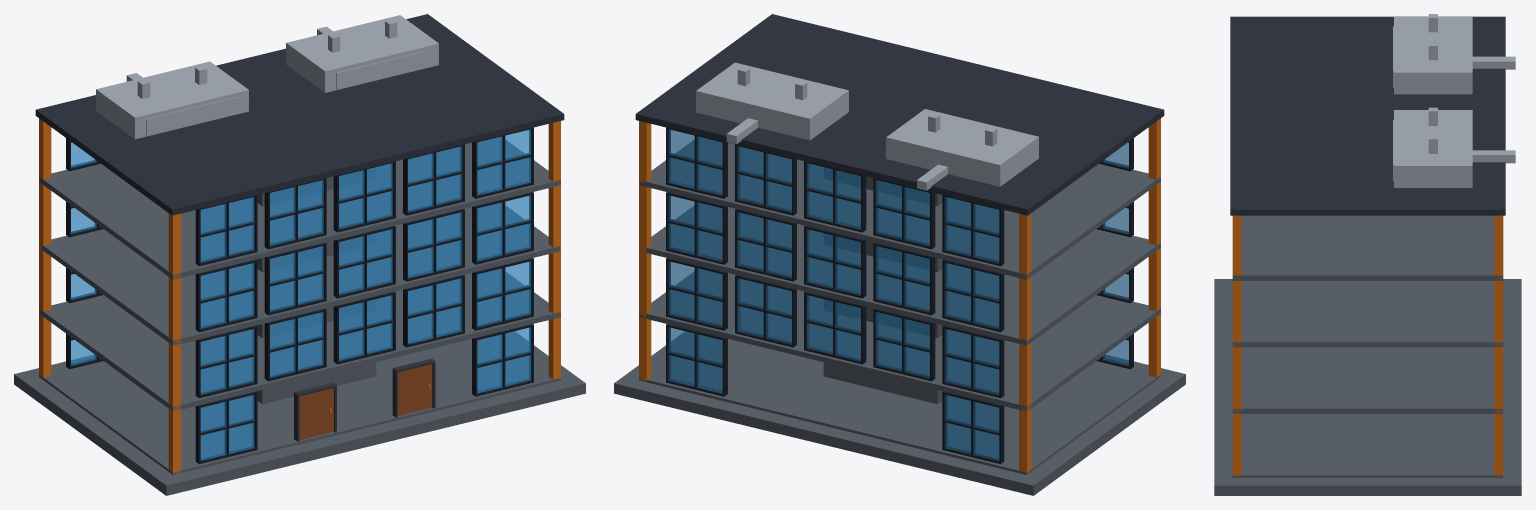
The model's file is bp_proj1_d33482e38eb2.obj.
3 renders of one model, left to right at view 1: azimuth 30°, elevation 25°; view 2: azimuth 150°, elevation 25°; view 3: azimuth 270°, elevation 25°, orthographic.
Visible parts, largest first — view 1: Roof_Slab, Floor_Slab_2, Floor_Slab_3, Floor_Slab_4, Floor_Slab_1, Foundation_Slab, Roof_HVAC_2_HVAC_Unit, Roof_HVAC_1_HVAC_Unit, Elevator_Core, Tower_Win_F1_S_2_Glass, Tower_Win_F2_S_1_Glass, Tower_Win_F3_S_1_Glass (+30 smaller); view 2: Roof_Slab, Floor_Slab_1, Floor_Slab_2, Floor_Slab_3, Floor_Slab_4, Foundation_Slab, Roof_HVAC_2_HVAC_Unit, Roof_HVAC_1_HVAC_Unit, Elevator_Core, Tower_Win_F1_N_2_Glass, Tower_Win_F3_N_1_Glass, Tower_Win_F3_N_2_Glass (+26 smaller); view 3: Roof_Slab, Floor_Slab_3, Floor_Slab_2, Floor_Slab_4, Floor_Slab_1, Foundation_Slab, Roof_HVAC_1_HVAC_Unit, Roof_HVAC_2_HVAC_Unit, Steel_Col_1_2, Steel_Col_2_3, Steel_Col_2_2, Steel_Col_1_3 (+6 smaller).
Boxes of the visible parts, <box> form: Roof_Slab: <box>35,14,564,215</box>; Floor_Slab_2: <box>39,269,560,411</box>; Floor_Slab_3: <box>42,203,560,345</box>; Floor_Slab_4: <box>39,137,560,279</box>; Floor_Slab_1: <box>39,335,560,474</box>; Foundation_Slab: <box>14,331,585,495</box>; Roof_HVAC_2_HVAC_Unit: <box>286,15,438,92</box>; Roof_HVAC_1_HVAC_Unit: <box>96,61,248,139</box>; Elevator_Core: <box>251,167,376,404</box>; Tower_Win_F1_S_2_Glass: <box>477,327,531,393</box>; Tower_Win_F2_S_1_Glass: <box>408,278,462,344</box>; Tower_Win_F3_S_1_Glass: <box>408,212,462,278</box>; Roof_Slab: <box>635,14,1164,215</box>; Floor_Slab_1: <box>639,335,1160,474</box>; Floor_Slab_2: <box>639,269,1160,410</box>; Floor_Slab_3: <box>646,203,1160,345</box>; Floor_Slab_4: <box>639,137,1160,279</box>; Foundation_Slab: <box>614,331,1185,495</box>; Roof_HVAC_2_HVAC_Unit: <box>696,62,848,140</box>; Roof_HVAC_1_HVAC_Unit: <box>886,109,1038,186</box>; Elevator_Core: <box>823,167,948,404</box>; Tower_Win_F1_N_2_Glass: <box>668,327,722,393</box>; Tower_Win_F3_N_1_Glass: <box>737,212,791,278</box>; Tower_Win_F3_N_2_Glass: <box>668,195,722,261</box>; Roof_Slab: <box>1230,16,1505,215</box>; Floor_Slab_3: <box>1232,281,1503,347</box>; Floor_Slab_2: <box>1232,347,1503,413</box>; Floor_Slab_4: <box>1232,215,1503,280</box>; Floor_Slab_1: <box>1232,414,1503,477</box>; Foundation_Slab: <box>1214,279,1521,495</box>; Roof_HVAC_1_HVAC_Unit: <box>1394,16,1472,94</box>; Roof_HVAC_2_HVAC_Unit: <box>1394,110,1472,187</box>; Steel_Col_1_2: <box>1494,411,1503,477</box>; Steel_Col_2_3: <box>1232,344,1241,410</box>; Steel_Col_2_2: <box>1494,345,1503,410</box>; Steel_Col_1_3: <box>1232,411,1241,476</box>.
Size of the model in its own units: 21.3 by 15.2 by 13.4.
